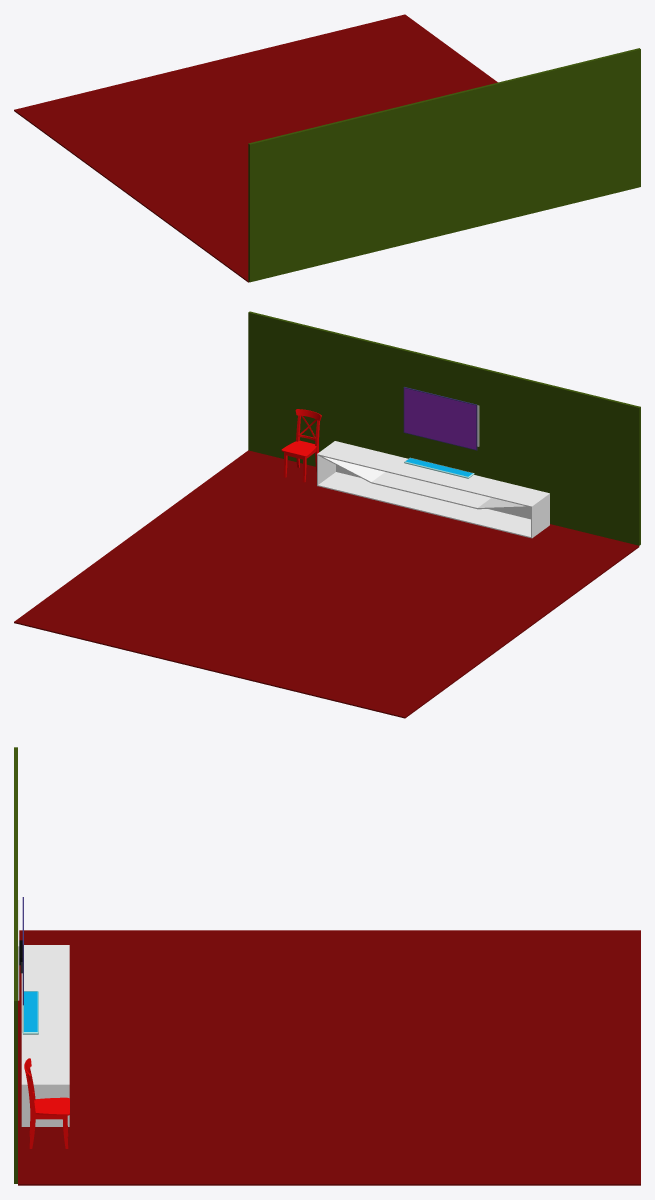
The model's file is room cellar.fbx.
3 views of the same model, one above another, from view 1: azimuth 30°, elevation 25°; view 2: azimuth 150°, elevation 25°; view 3: azimuth 270°, elevation 25° (orthographic). The views are drawn at different scales.
Visible parts, largest first — view 1: wall1, floor1; view 2: floor1, wall1, table1, tv1, Ikea_Dining_Chair1; view 3: floor1, table1, wall1, Ikea_Dining_Chair1, speaker1.
Part boxes in pixels (bbox=[...]): wall1: bbox=[248, 48, 640, 282]; floor1: bbox=[14, 14, 497, 282]; floor1: bbox=[14, 450, 639, 718]; wall1: bbox=[248, 311, 640, 545]; table1: bbox=[317, 441, 549, 538]; tv1: bbox=[403, 387, 477, 450]; Ikea_Dining_Chair1: bbox=[281, 409, 321, 482]; floor1: bbox=[18, 930, 640, 1185]; table1: bbox=[21, 945, 69, 1126]; wall1: bbox=[14, 747, 17, 1183]; Ikea_Dining_Chair1: bbox=[24, 1058, 69, 1148]; speaker1: bbox=[22, 991, 38, 1034].
Bounding box in the file's own units: 380 × 129 × 396.
